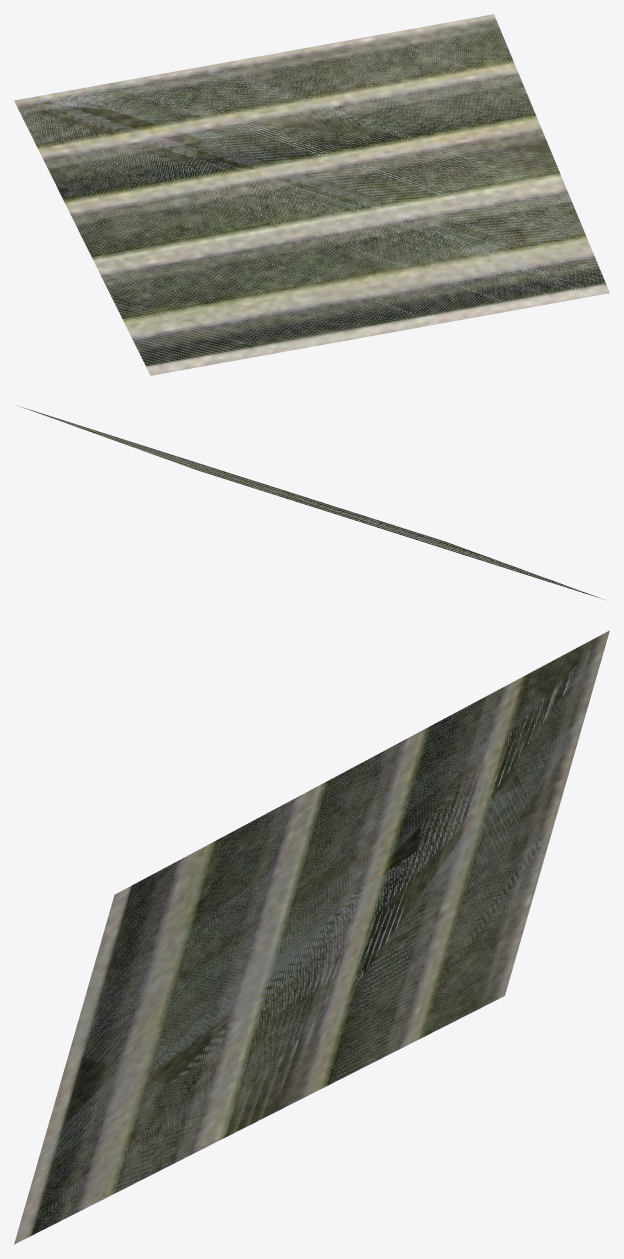
File: 西庸城堡84.dae
The picture shows the model from 3 angles, top to bottom: view 1: azimuth 30°, elevation 25°; view 2: azimuth 150°, elevation 25°; view 3: azimuth 270°, elevation 25°; orthographic projection. The views are drawn at different scales.
Parts seen in each view (by area): view 1: SketchUp; view 2: SketchUp; view 3: SketchUp.
Part boxes in pixels (box(x1,y1,x2,y2)): SketchUp: box(14, 14, 609, 375); SketchUp: box(17, 405, 606, 600); SketchUp: box(14, 630, 609, 1244).
Size of the model in its own units: 149 by 100 by 50.79.
